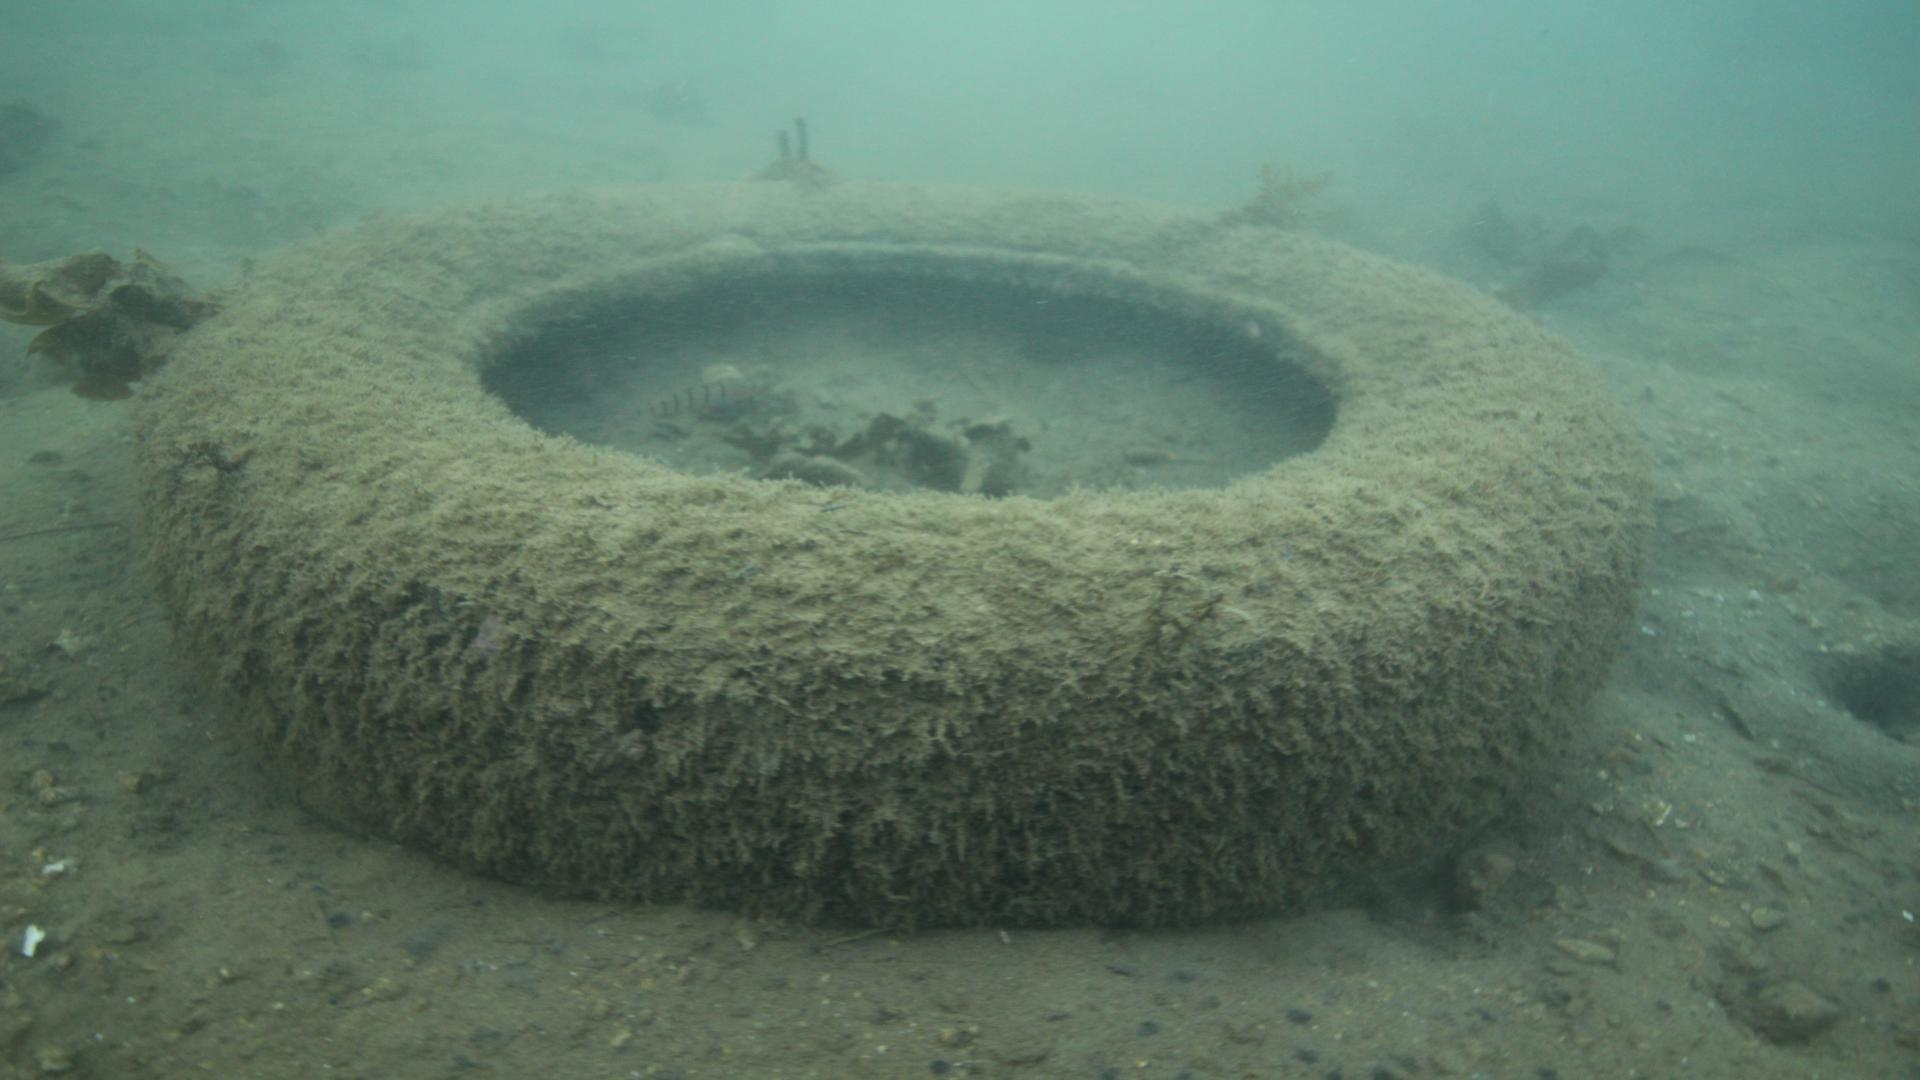tire: (135, 175, 1648, 934)
